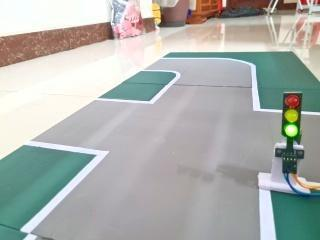green: (274, 87, 309, 148)
